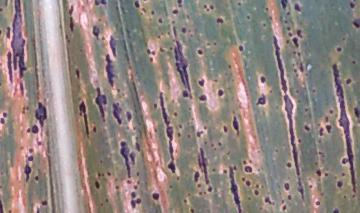tarspot: (272, 32, 300, 174), (330, 61, 356, 190), (157, 90, 177, 175), (11, 1, 28, 79), (172, 40, 195, 97), (227, 164, 244, 213), (118, 138, 132, 179), (198, 147, 212, 185), (94, 84, 108, 120), (78, 97, 90, 136), (103, 54, 117, 86), (33, 97, 48, 126), (109, 99, 123, 127), (230, 115, 242, 137), (109, 33, 119, 59), (6, 51, 13, 86), (297, 176, 306, 202), (22, 162, 33, 183), (90, 23, 101, 43), (17, 80, 29, 98), (254, 93, 268, 106), (197, 91, 209, 105), (129, 197, 143, 209), (291, 34, 301, 50), (30, 125, 43, 137), (149, 190, 162, 202), (72, 66, 83, 80), (68, 13, 75, 35), (90, 1, 111, 8), (333, 178, 345, 190), (92, 178, 103, 191), (263, 195, 274, 208), (352, 104, 360, 121), (191, 170, 202, 182), (258, 74, 269, 86), (179, 89, 191, 100), (170, 6, 180, 19), (214, 15, 225, 26), (131, 140, 142, 151), (279, 1, 290, 12), (244, 163, 254, 175), (196, 76, 206, 88), (165, 181, 177, 191), (293, 1, 302, 14), (221, 122, 229, 136), (297, 60, 305, 74), (216, 87, 226, 98), (204, 184, 214, 195), (284, 191, 294, 202), (350, 18, 360, 29), (215, 138, 225, 149), (153, 32, 165, 41), (325, 121, 332, 136), (125, 109, 133, 122), (127, 190, 140, 198), (236, 43, 246, 53), (251, 187, 261, 197), (104, 169, 114, 179), (194, 47, 205, 56), (148, 7, 157, 18), (281, 17, 292, 26), (38, 198, 50, 206), (104, 194, 111, 207), (32, 173, 41, 183), (35, 138, 44, 148), (302, 123, 311, 133), (335, 44, 344, 54), (282, 181, 291, 191), (348, 1, 357, 11), (147, 55, 157, 64), (157, 44, 166, 54), (225, 61, 234, 71), (90, 123, 98, 134), (179, 25, 187, 36), (195, 130, 206, 138), (244, 12, 252, 23), (234, 1, 245, 9), (1, 192, 5, 213), (319, 124, 325, 138), (24, 154, 36, 161), (284, 25, 296, 32), (344, 76, 352, 86), (131, 1, 141, 9), (209, 3, 217, 13), (301, 105, 311, 113), (133, 169, 141, 179), (134, 179, 144, 187), (314, 198, 321, 209), (221, 166, 228, 177), (284, 161, 293, 169), (313, 169, 322, 177), (156, 16, 164, 25), (124, 178, 133, 186), (144, 46, 152, 55), (114, 183, 122, 192), (201, 2, 209, 11), (197, 190, 205, 199), (307, 182, 315, 191), (177, 122, 185, 131), (326, 108, 335, 116), (281, 203, 288, 213), (5, 206, 15, 213), (175, 1, 186, 7), (1, 5, 7, 16), (351, 190, 357, 201), (1, 110, 9, 118), (332, 205, 340, 213), (244, 179, 252, 187), (264, 5, 272, 13), (322, 170, 330, 178), (211, 40, 219, 48), (95, 170, 102, 179), (182, 196, 189, 205), (174, 131, 183, 138), (211, 166, 218, 175), (24, 126, 31, 134), (27, 147, 34, 155), (173, 110, 179, 119), (1, 119, 8, 126), (189, 206, 196, 213), (151, 101, 157, 109)
